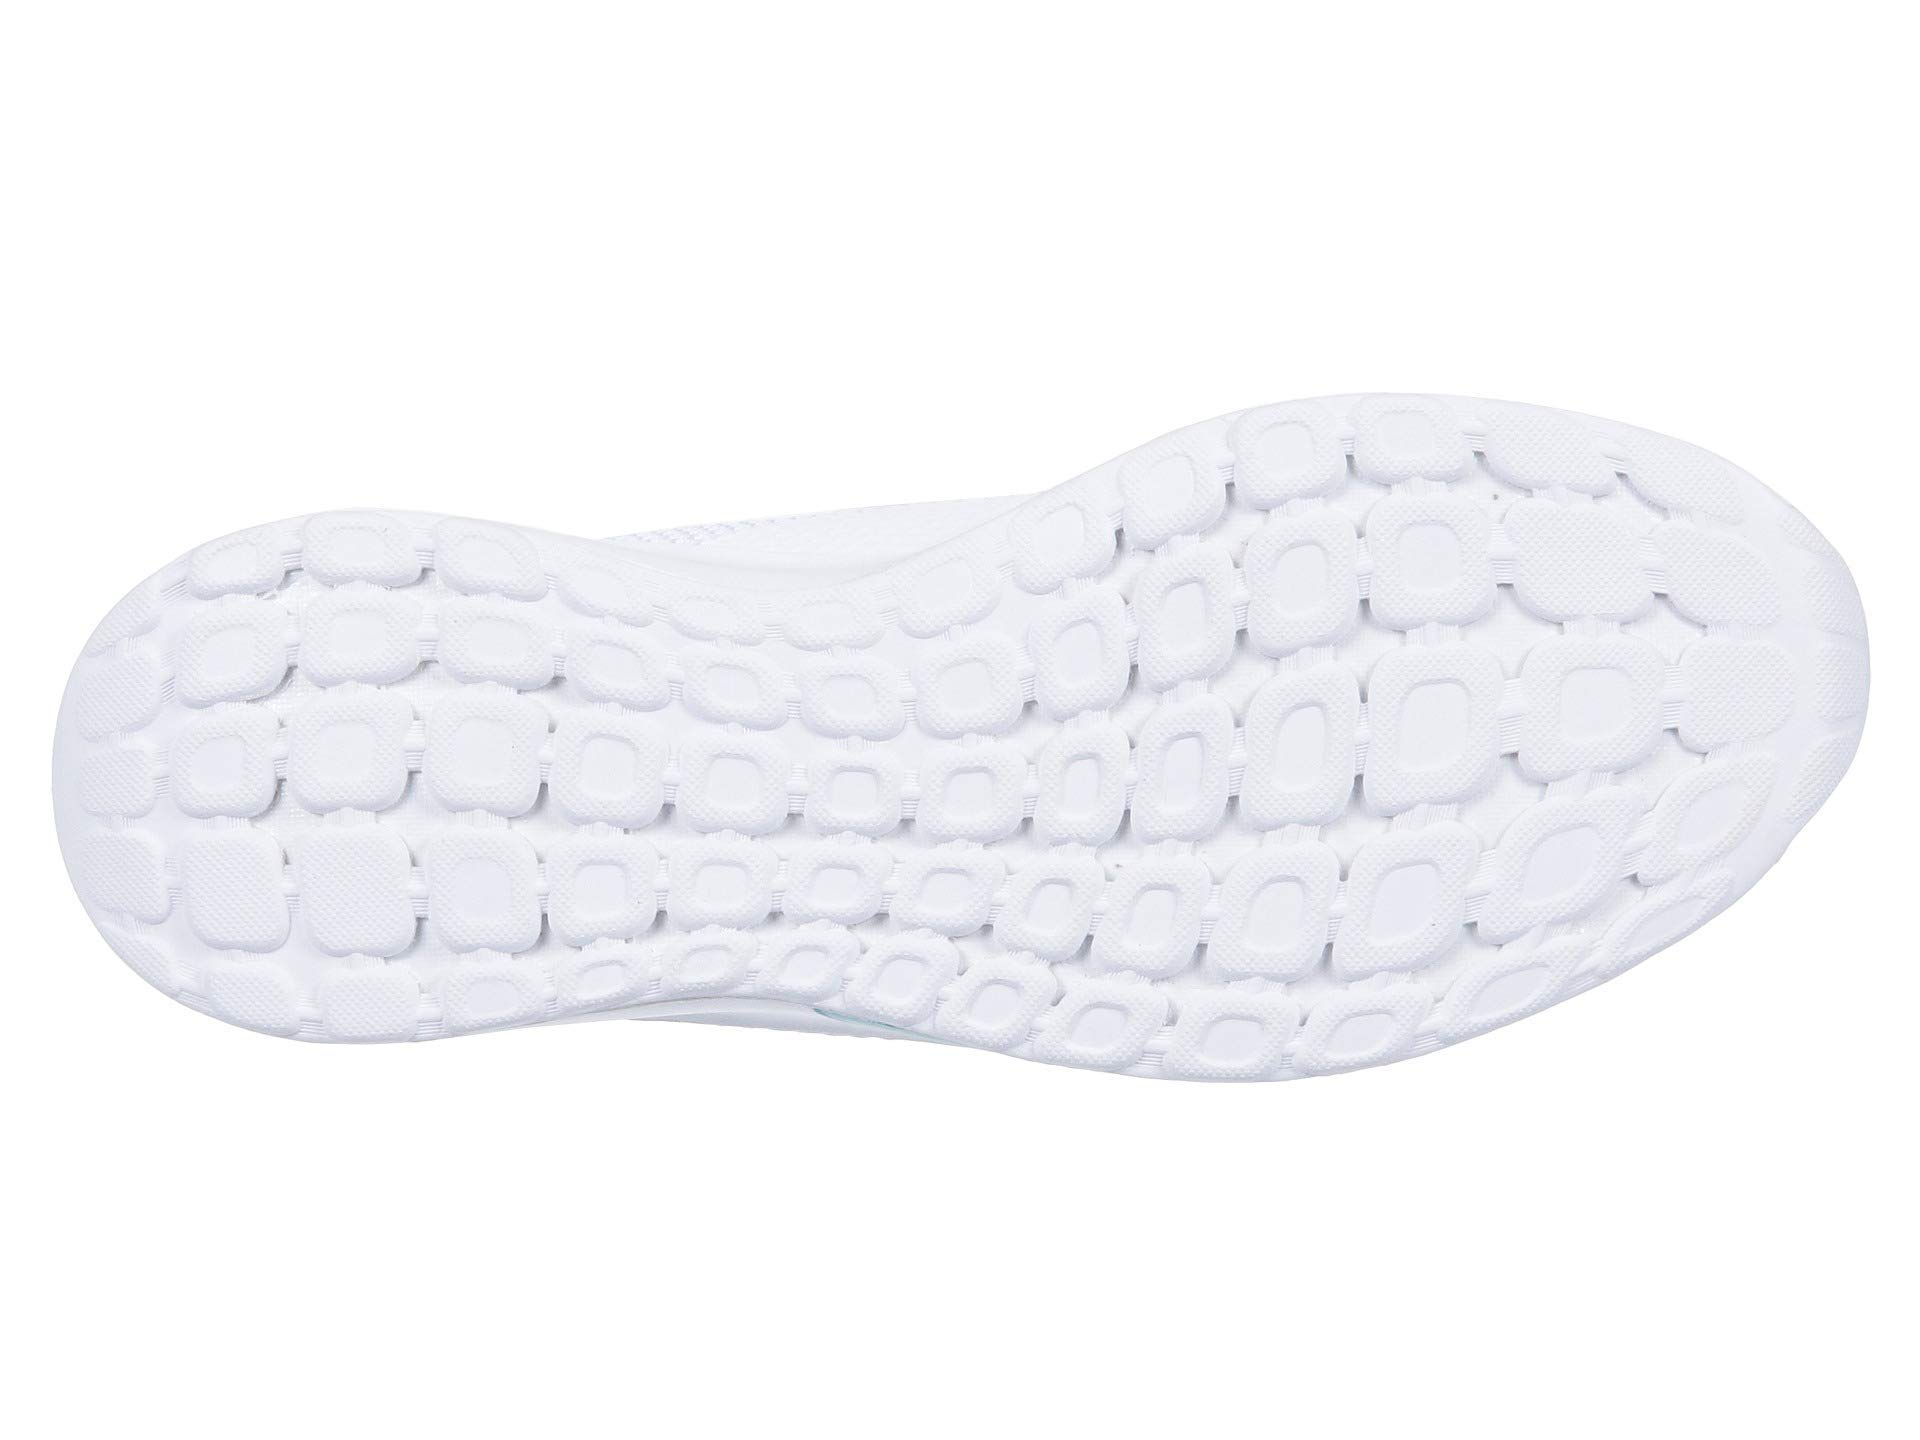quad: (178, 579, 1657, 964), (1164, 411, 1683, 625), (1027, 980, 1445, 1080), (1663, 637, 1813, 756)
